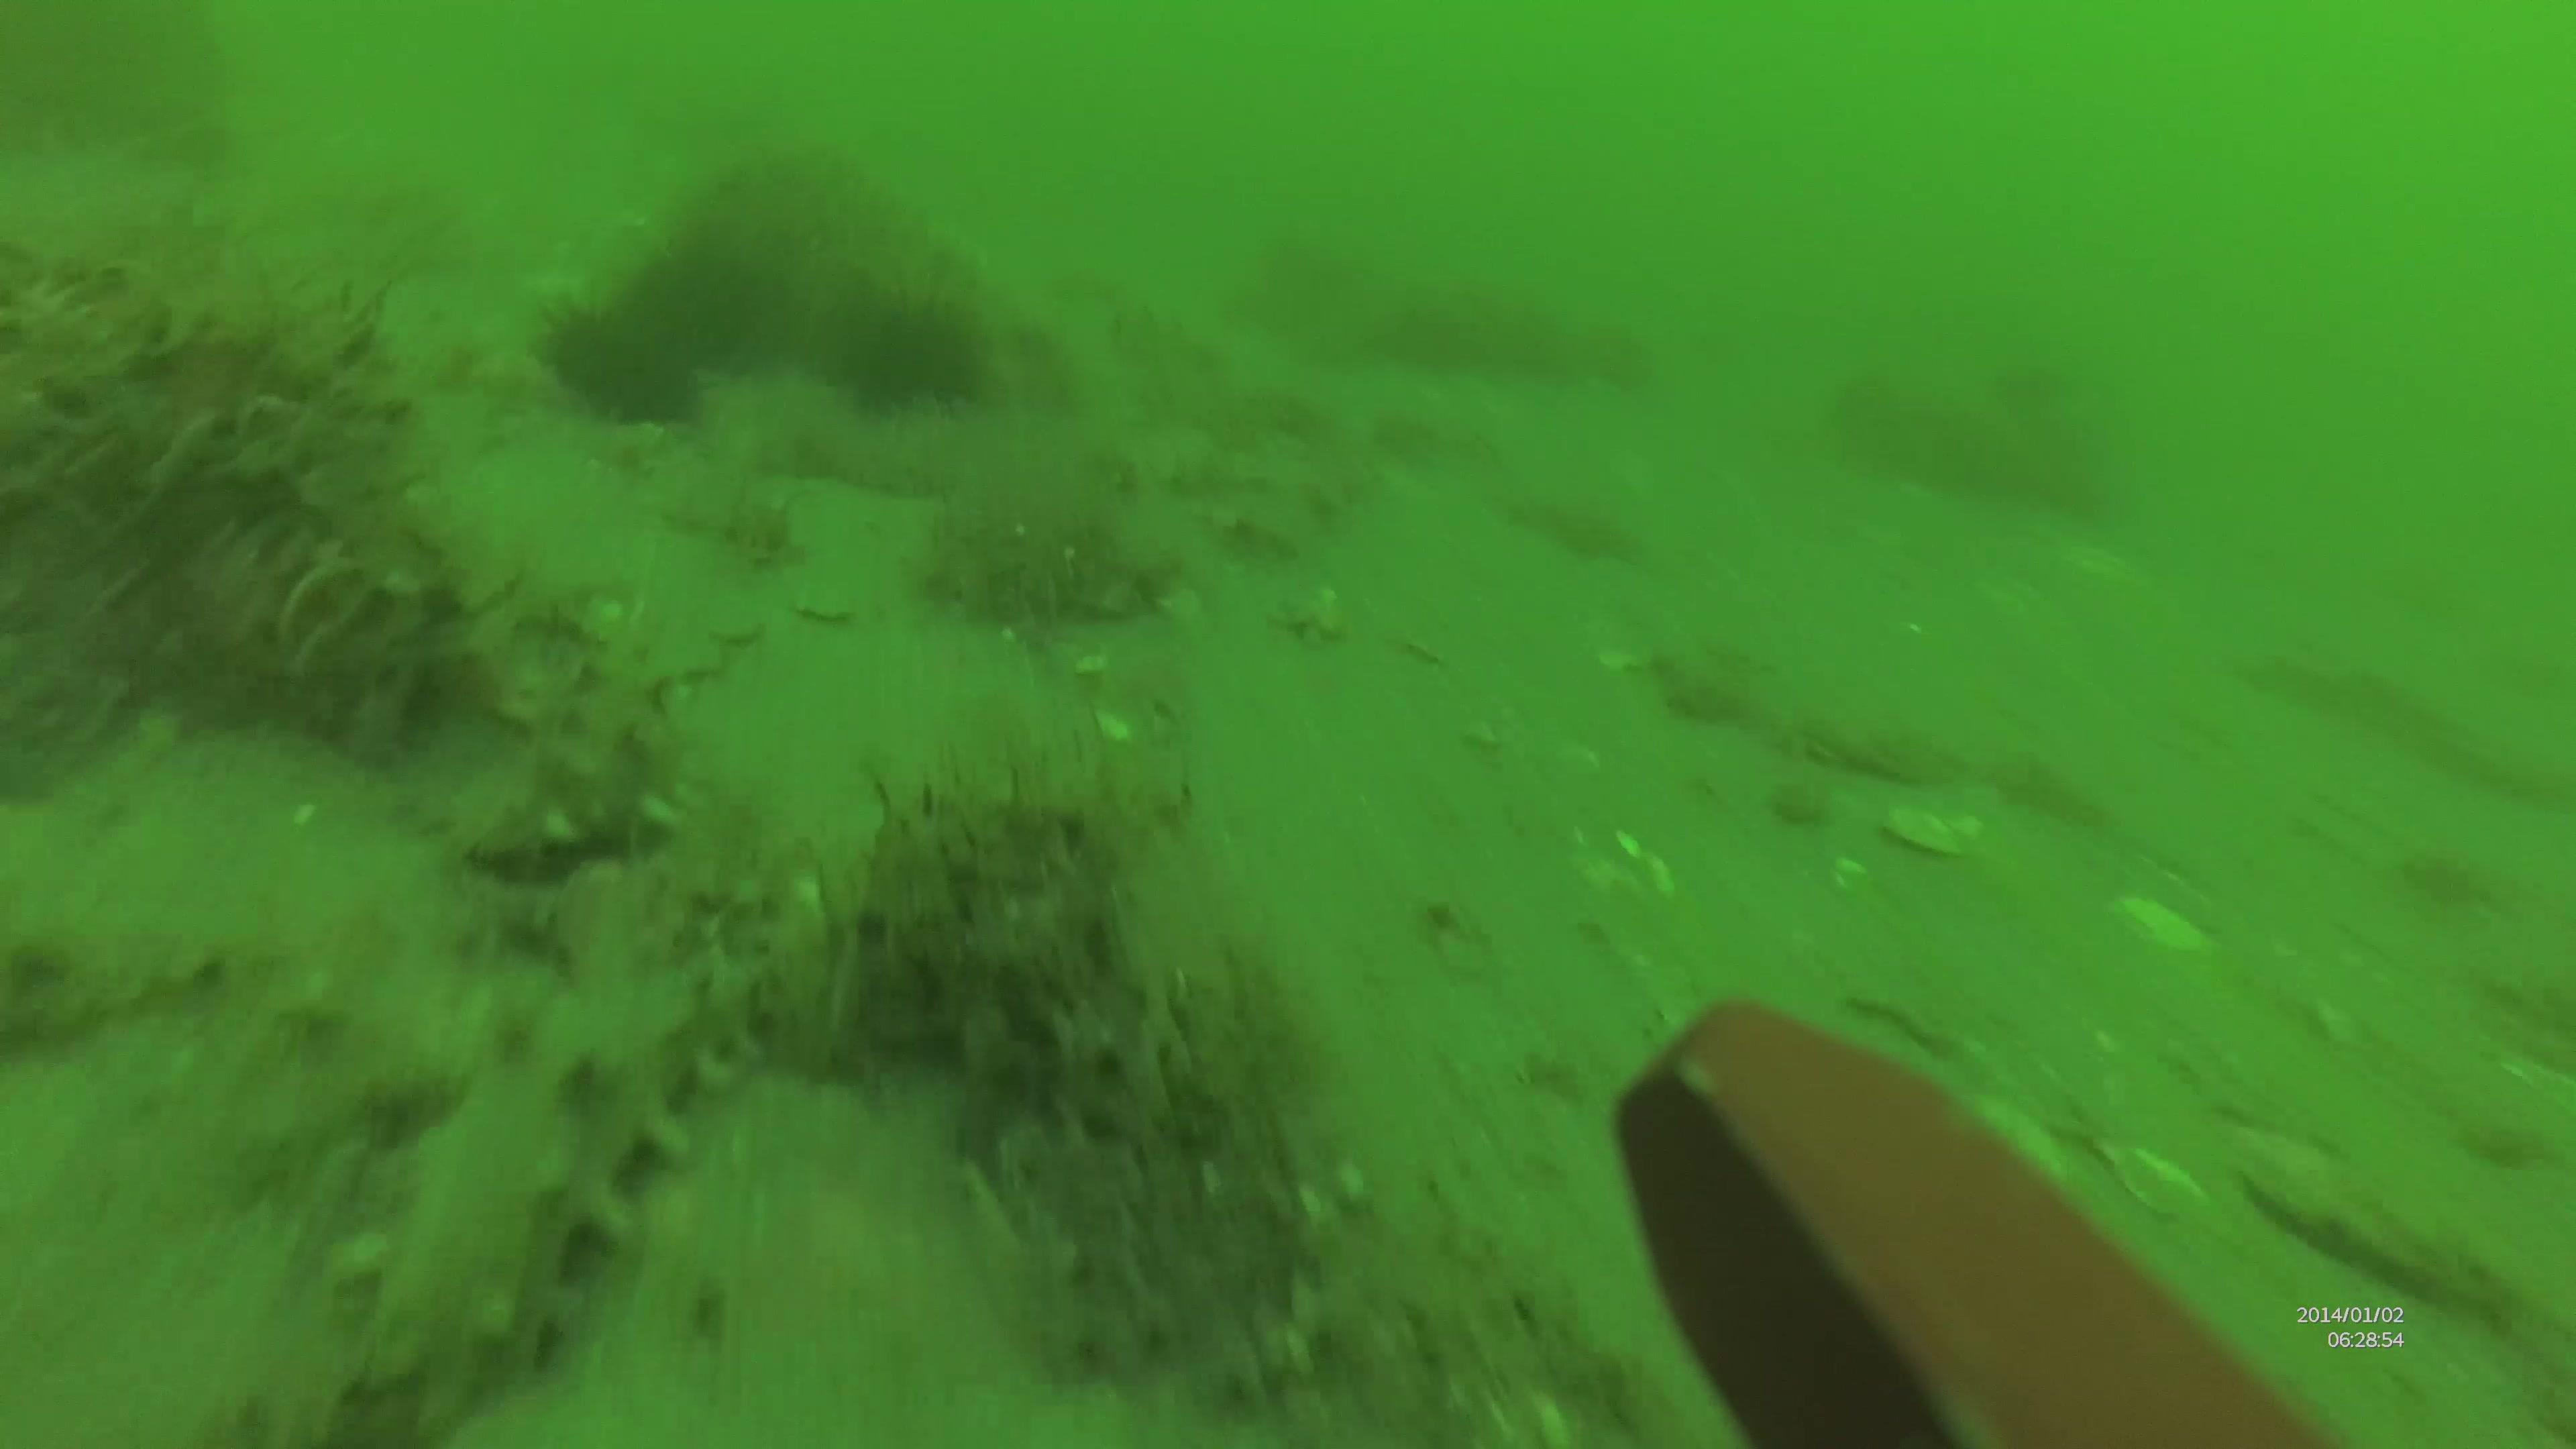echinus: (529, 292, 711, 430), (835, 308, 973, 414)
holothurian: (370, 860, 814, 1419)
